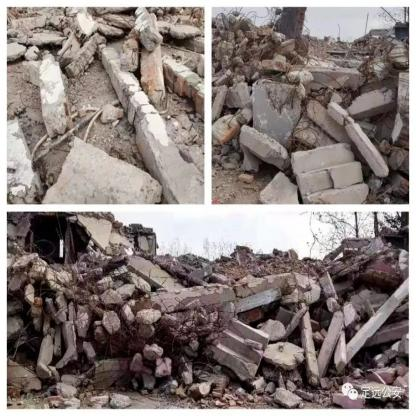rebar: (35, 249, 132, 322), (211, 12, 280, 77), (286, 87, 344, 154), (159, 298, 223, 347), (357, 37, 399, 82), (57, 42, 76, 62), (130, 47, 138, 66)
